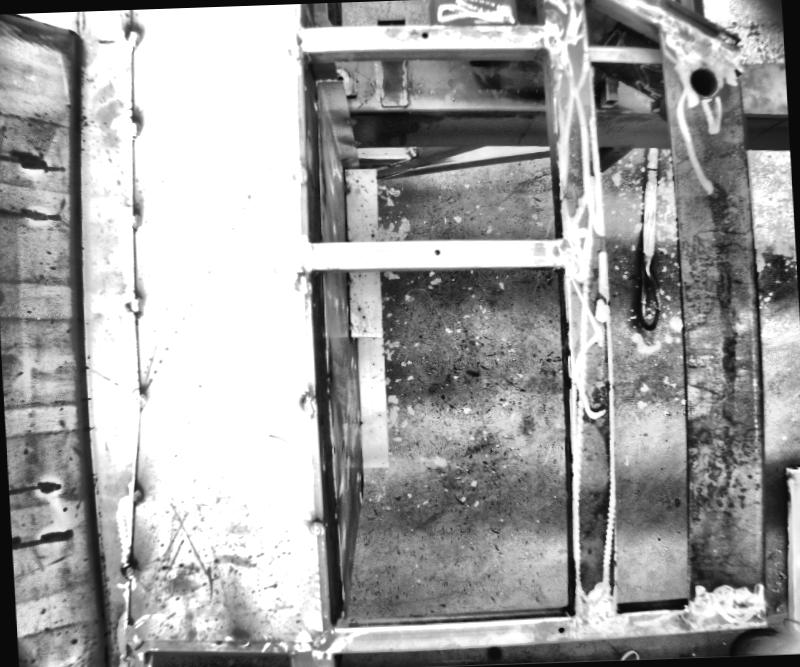hole: (684, 65, 719, 101), (432, 247, 440, 255), (420, 31, 428, 38), (558, 624, 565, 631)
